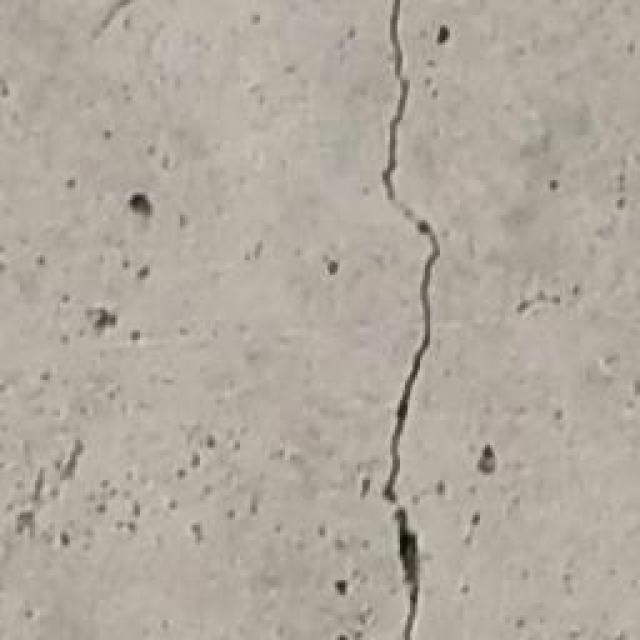concrete-crack: (379, 0, 442, 640)
